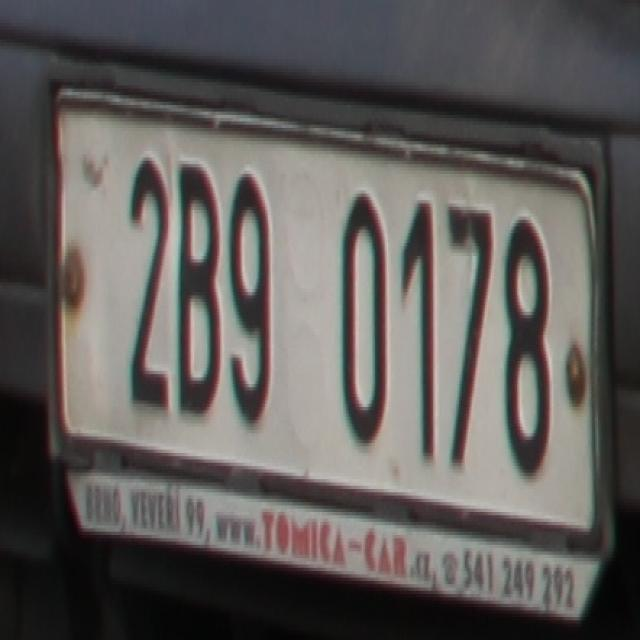0: (339, 181, 391, 456)
1: (401, 194, 440, 469)
2: (124, 148, 174, 414)
7: (442, 187, 496, 469)
8: (502, 210, 554, 486)
9: (227, 164, 274, 420)
B: (175, 151, 223, 423)
